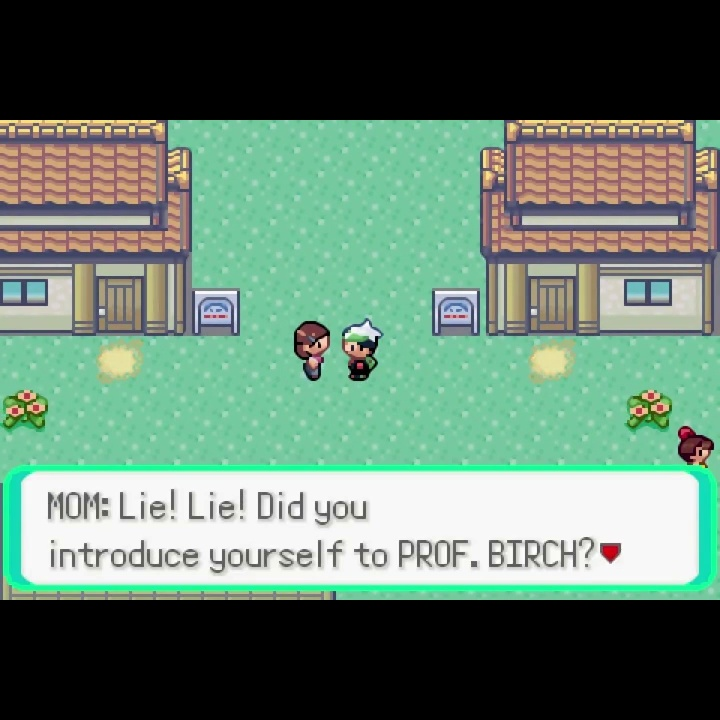agent: (338, 316, 384, 382)
house: (479, 120, 720, 342), (1, 121, 193, 339)
npc: (289, 318, 332, 381), (673, 422, 720, 465)
